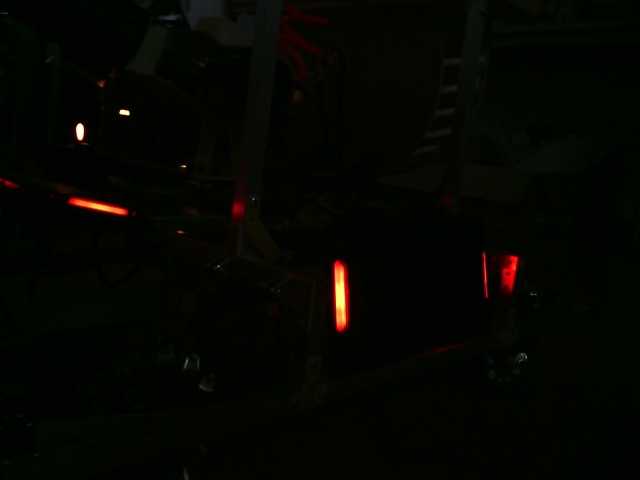lamp: (326, 255, 353, 335)
